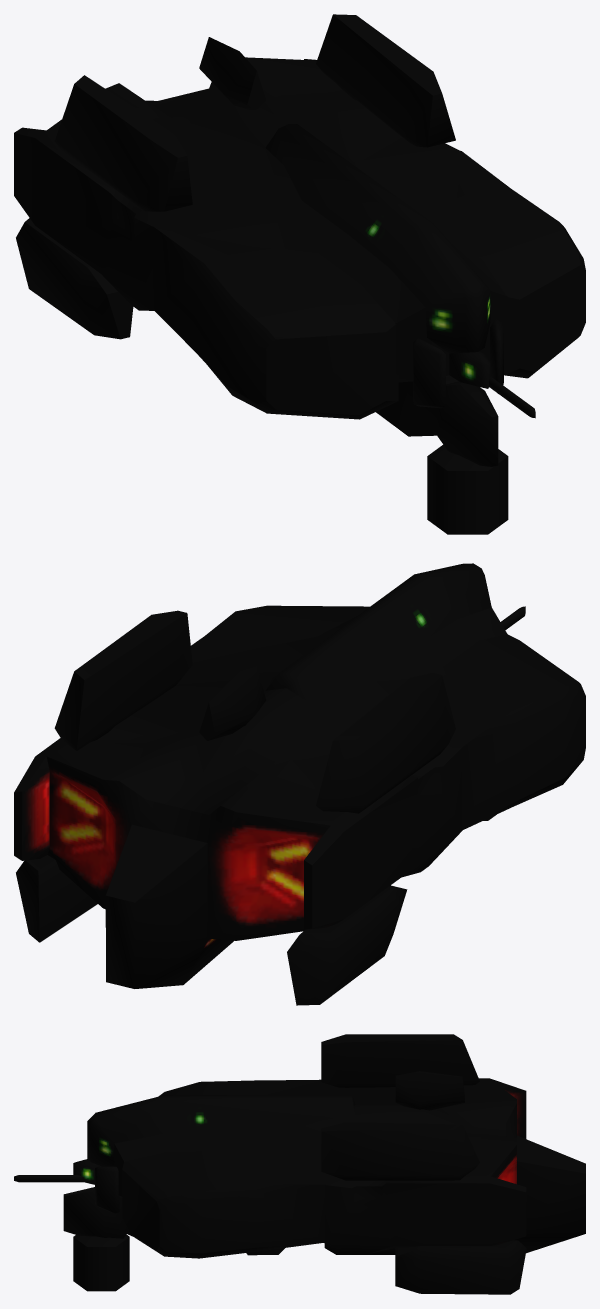
File: tan_sc_miss_01_t1.glb
3 views of the same model, one above another, from view 1: azimuth 30°, elevation 25°; view 2: azimuth 150°, elevation 25°; view 3: azimuth 270°, elevation 25° (orthographic). The views are drawn at different scales.
Parts seen in each view (by area): view 1: Tan_Missile_Corvette_01_LOD0; view 2: Tan_Missile_Corvette_01_LOD0; view 3: Tan_Missile_Corvette_01_LOD0.
Part boxes in pixels (x1,y1,x2,y2): Tan_Missile_Corvette_01_LOD0: [14, 14, 585, 534]; Tan_Missile_Corvette_01_LOD0: [14, 563, 585, 1005]; Tan_Missile_Corvette_01_LOD0: [14, 1034, 585, 1294].
Size of what is drawn, in the model's own units: 0.3955 by 0.3509 by 0.8297.
1 material, 1 textured.
